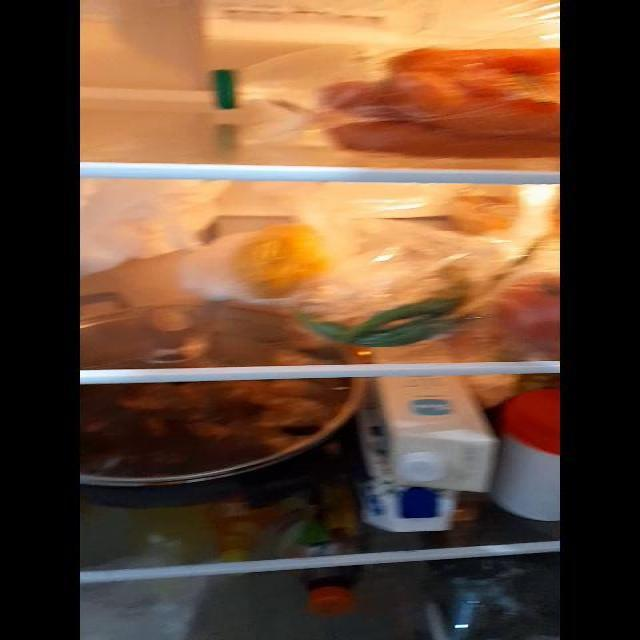broccoli: (425, 561, 565, 635)
carrot: (320, 54, 560, 150)
green chilies: (299, 284, 476, 349)
lemon: (238, 224, 332, 294)
milk: (367, 383, 491, 529)
tomato: (496, 273, 559, 346)
